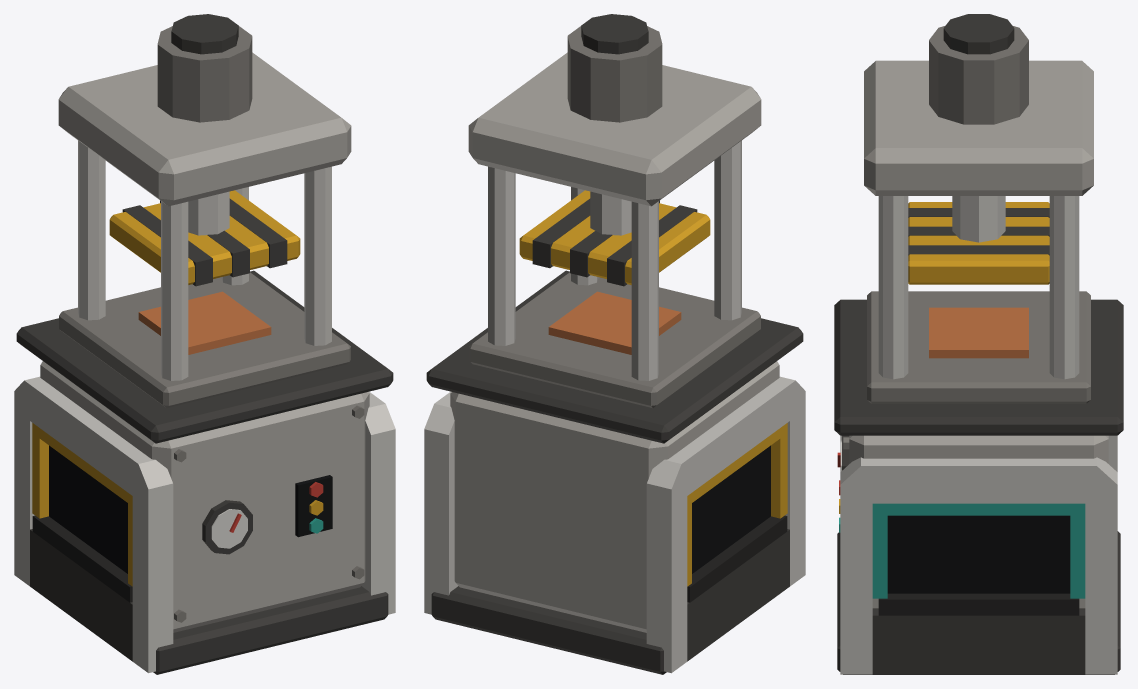
The model's file is press.fbx.
3 renders of one model, left to right at view 1: azimuth 30°, elevation 25°; view 2: azimuth 150°, elevation 25°; view 3: azimuth 270°, elevation 25°, orthographic. The views are drawn at different scales.
Visible parts, largest first — view 1: press; view 2: press; view 3: press.
Boxes of the visible parts, box(x1,y1,x2,y2) form: press: box(14, 14, 395, 674); press: box(424, 14, 805, 674); press: box(834, 14, 1123, 674).
Size of the model in its own units: 3 by 6.62 by 2.94.
